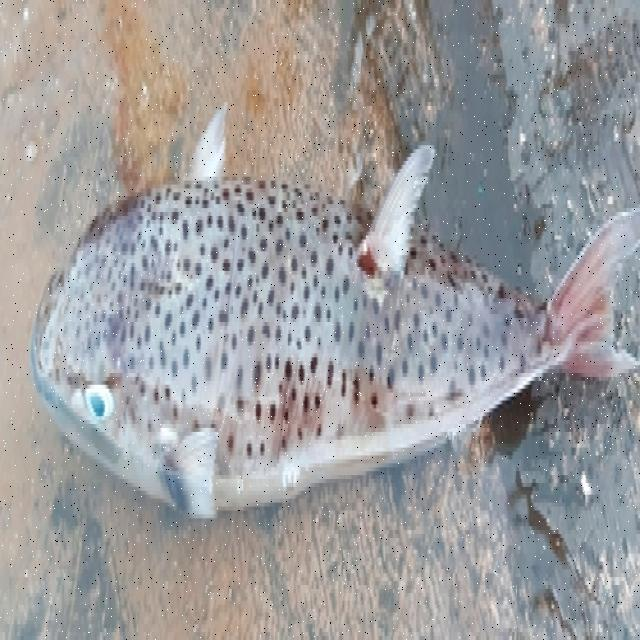Balik: (31, 110, 639, 518)
